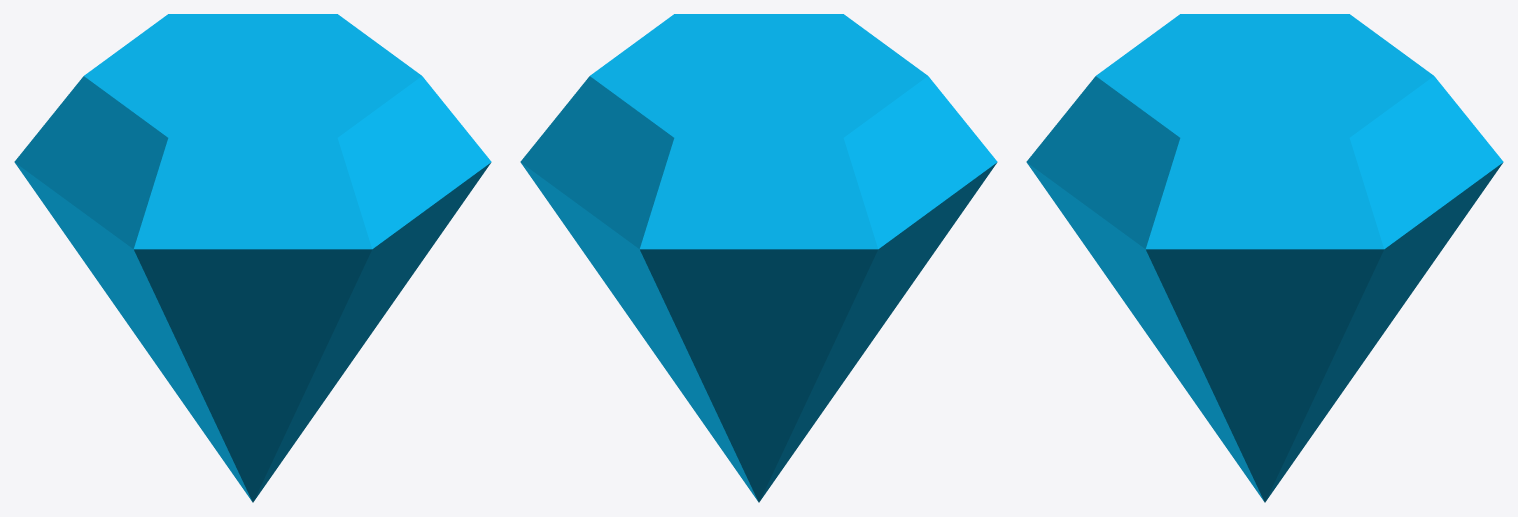
File: Jem_22.fbx
The picture shows the model from 3 angles, left to right: view 1: azimuth 30°, elevation 25°; view 2: azimuth 150°, elevation 25°; view 3: azimuth 270°, elevation 25°; orthographic projection.
Parts seen in each view (by area): view 1: Jem_22; view 2: Jem_22; view 3: Jem_22.
Part boxes in pixels (bbox=[...]): Jem_22: bbox=[14, 14, 491, 502]; Jem_22: bbox=[520, 14, 997, 502]; Jem_22: bbox=[1026, 14, 1503, 502].
Bounding box in the file's own units: 36.92 × 42.08 × 42.63.
